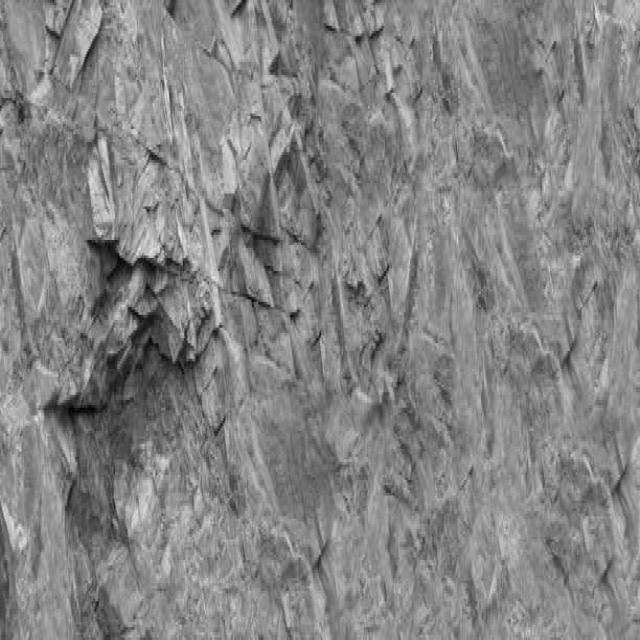Metamorphic: (2, 2, 640, 638)
